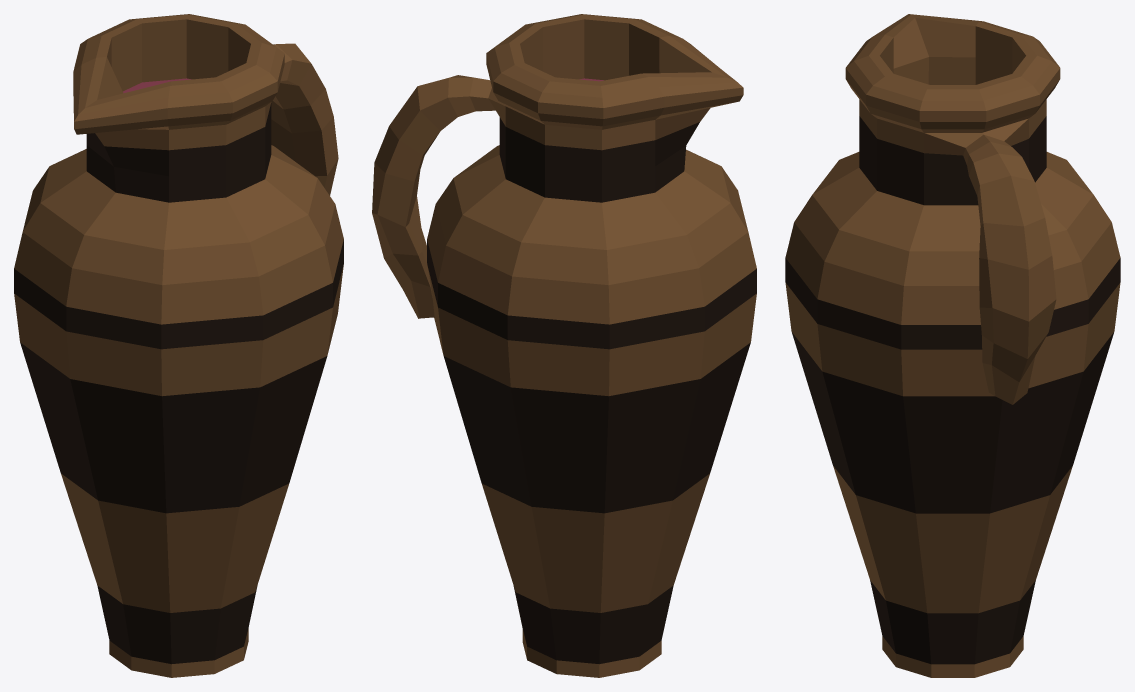
File: Amfora.fbx
3 views of the same model, side by side, from view 1: azimuth 30°, elevation 25°; view 2: azimuth 150°, elevation 25°; view 3: azimuth 270°, elevation 25° (orthographic).
Parts seen in each view (by area): view 1: Cylinder; view 2: Cylinder; view 3: Cylinder.
Part boxes in pixels (left/top/right/bottom): Cylinder: left=14, top=14, right=343, bottom=677; Cylinder: left=372, top=14, right=756, bottom=677; Cylinder: left=785, top=14, right=1120, bottom=677.
Size of the model in its own units: 38.67 by 68.89 by 35.23.
